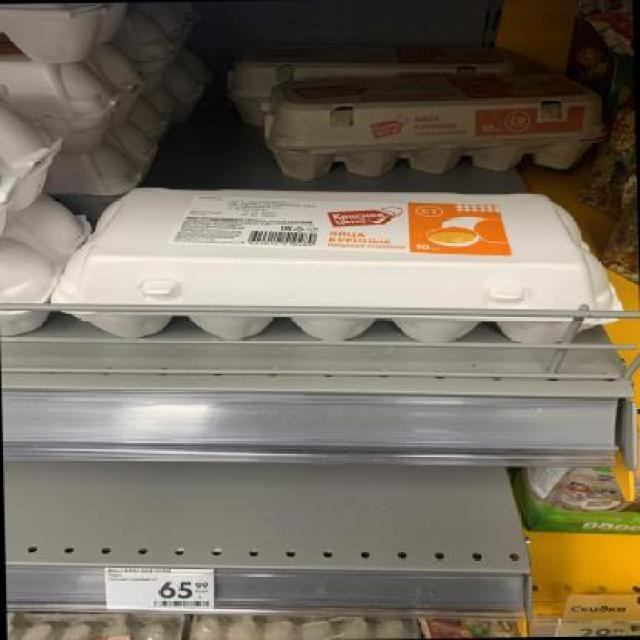egg: (42, 180, 628, 352), (252, 72, 608, 180)
